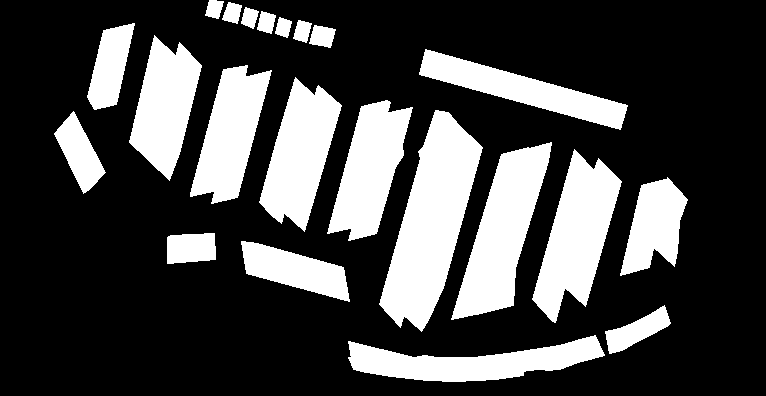parkingspot: (379, 110, 459, 327), (401, 123, 482, 331), (419, 49, 627, 129), (451, 147, 528, 319), (476, 142, 551, 314), (348, 335, 604, 381), (532, 149, 596, 322), (562, 158, 621, 306), (282, 85, 341, 231), (348, 107, 412, 240), (259, 77, 317, 223), (327, 100, 390, 233), (211, 70, 271, 203), (190, 65, 247, 196), (149, 42, 201, 180), (241, 241, 349, 301), (129, 35, 177, 162), (620, 178, 668, 275), (54, 111, 105, 193), (87, 23, 134, 109), (651, 177, 687, 266), (605, 305, 670, 353), (167, 233, 215, 263), (222, 2, 241, 23), (293, 20, 311, 42), (257, 11, 275, 33), (241, 7, 258, 28), (205, 0, 223, 18), (309, 25, 325, 45), (275, 17, 291, 37), (321, 27, 335, 47)
